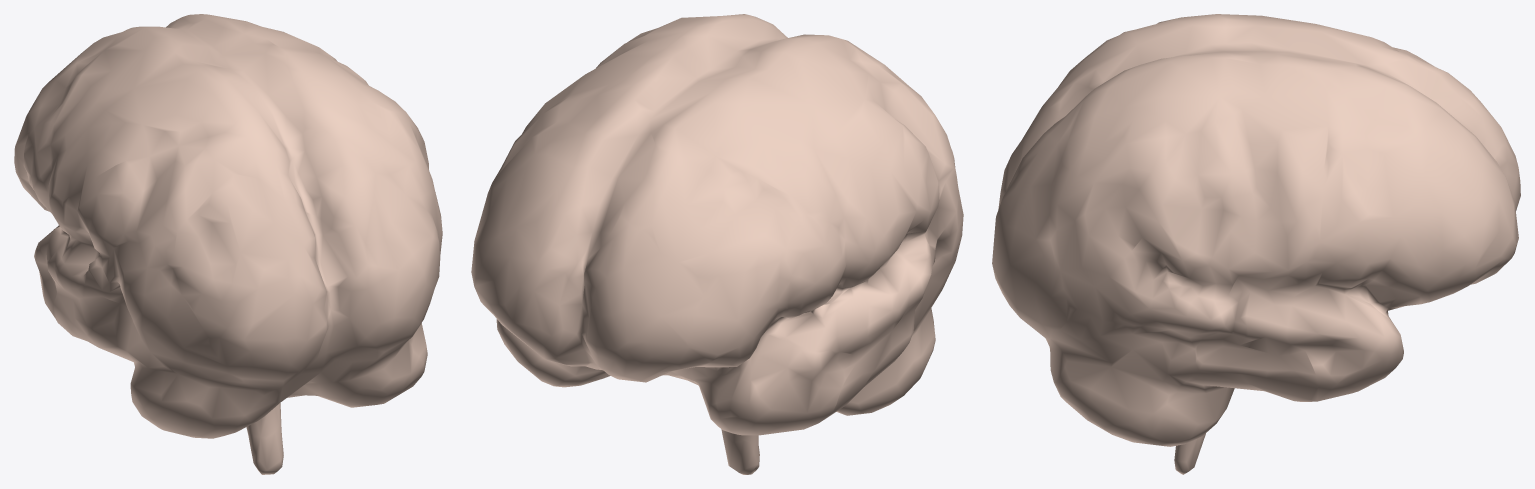
File: brain_DBS_PPT_.glb
The picture shows the model from 3 angles, left to right: view 1: azimuth 30°, elevation 25°; view 2: azimuth 150°, elevation 25°; view 3: azimuth 270°, elevation 25°; orthographic projection. The views are drawn at different scales.
Visible parts, largest first — view 1: brain; view 2: brain; view 3: brain.
Part boxes in pixels (x1,y1,x2,y2): brain: [14, 14, 442, 474]; brain: [471, 14, 963, 474]; brain: [992, 14, 1520, 474].
Bounding box in the file's own units: 0.9267 × 1.08 × 1.2.
